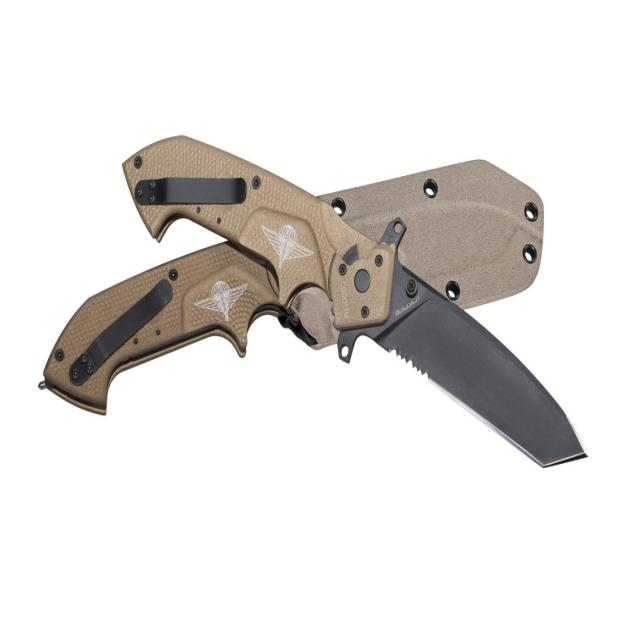knife: (125, 127, 599, 478)
